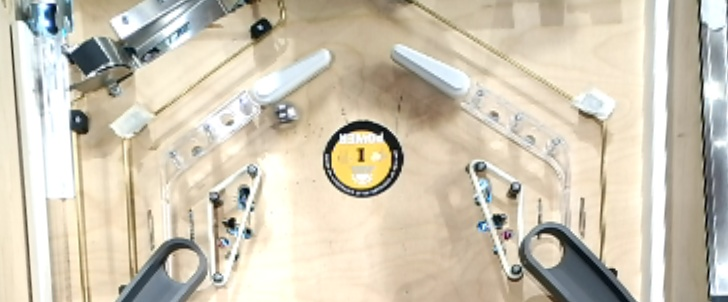ball: (272, 99, 302, 128)
flipper-left: (391, 41, 473, 103)
flipper-right: (252, 40, 334, 113)
